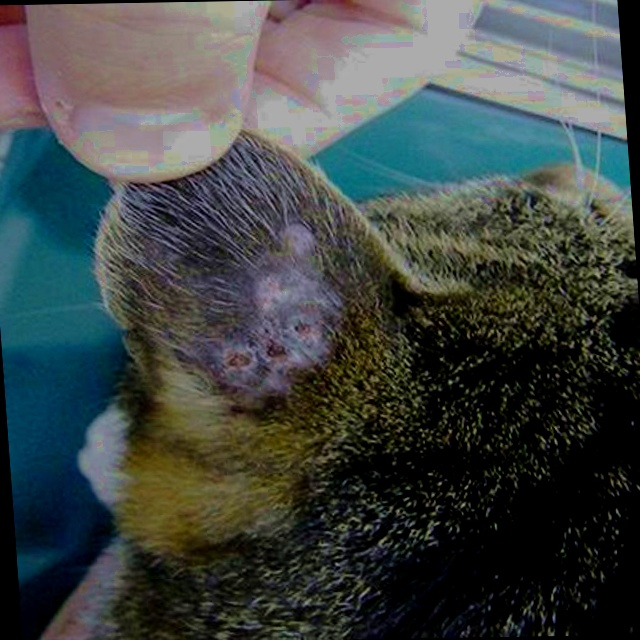ringworm: (211, 225, 348, 395)
